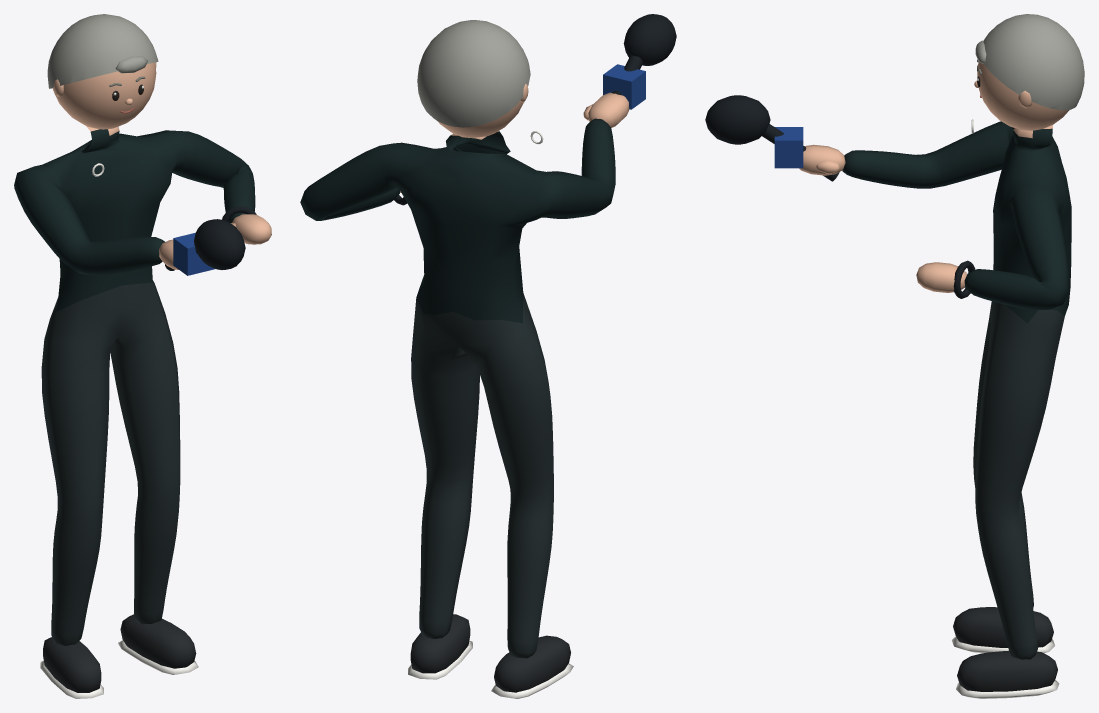
The model's file is journalist_grijs.glb.
3 views of the same model, side by side, from view 1: azimuth 30°, elevation 25°; view 2: azimuth 150°, elevation 25°; view 3: azimuth 270°, elevation 25° (orthographic). The views are drawn at different scales.
Visible parts, largest first — view 1: JournalistGrijsModel, MicrofoonEnHorloge; view 2: JournalistGrijsModel, MicrofoonEnHorloge; view 3: JournalistGrijsModel, MicrofoonEnHorloge.
Part boxes in pixels (x1,y1,x2,y2): JournalistGrijsModel: (14, 14, 271, 698); MicrofoonEnHorloge: (92, 163, 256, 275); JournalistGrijsModel: (300, 20, 629, 698); MicrofoonEnHorloge: (394, 14, 676, 205); JournalistGrijsModel: (799, 14, 1084, 698); MicrofoonEnHorloge: (705, 95, 975, 298).
Size of the model in its own units: 0.7024 by 1.76 by 0.9293.
